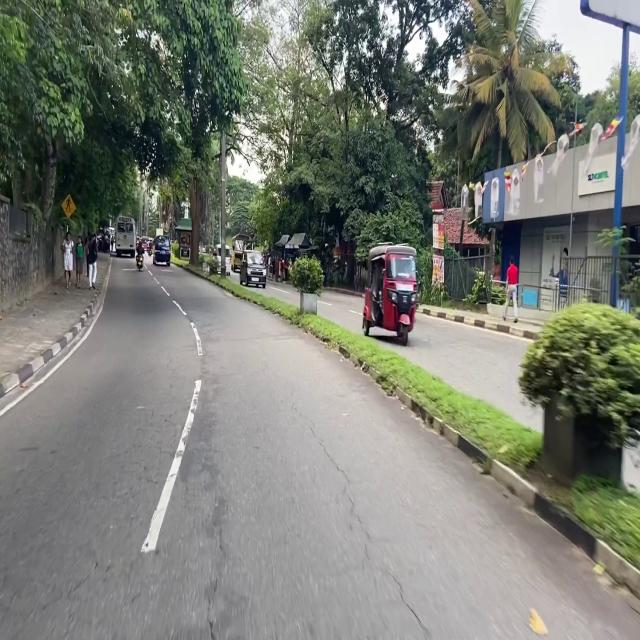bus: (231, 233, 253, 271), (115, 217, 135, 257)
car: (240, 251, 266, 288)
motorcycle: (136, 254, 143, 271)
person: (502, 257, 518, 322), (63, 231, 73, 289), (87, 234, 97, 289), (75, 235, 84, 288), (136, 242, 144, 254)
three wheeler: (363, 244, 416, 345)
van: (213, 245, 231, 276), (153, 235, 170, 266)
